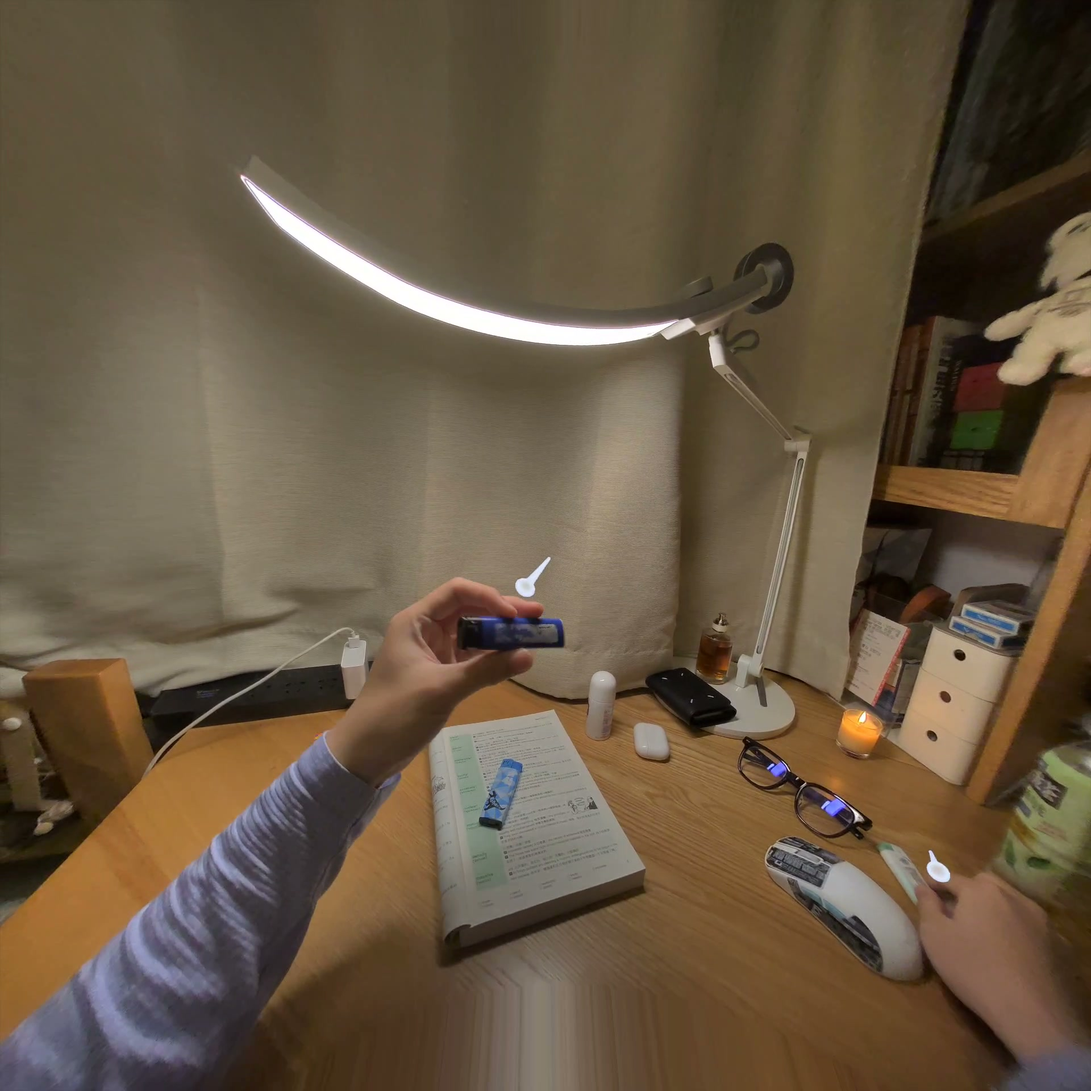lighter: (457, 617, 564, 651)
